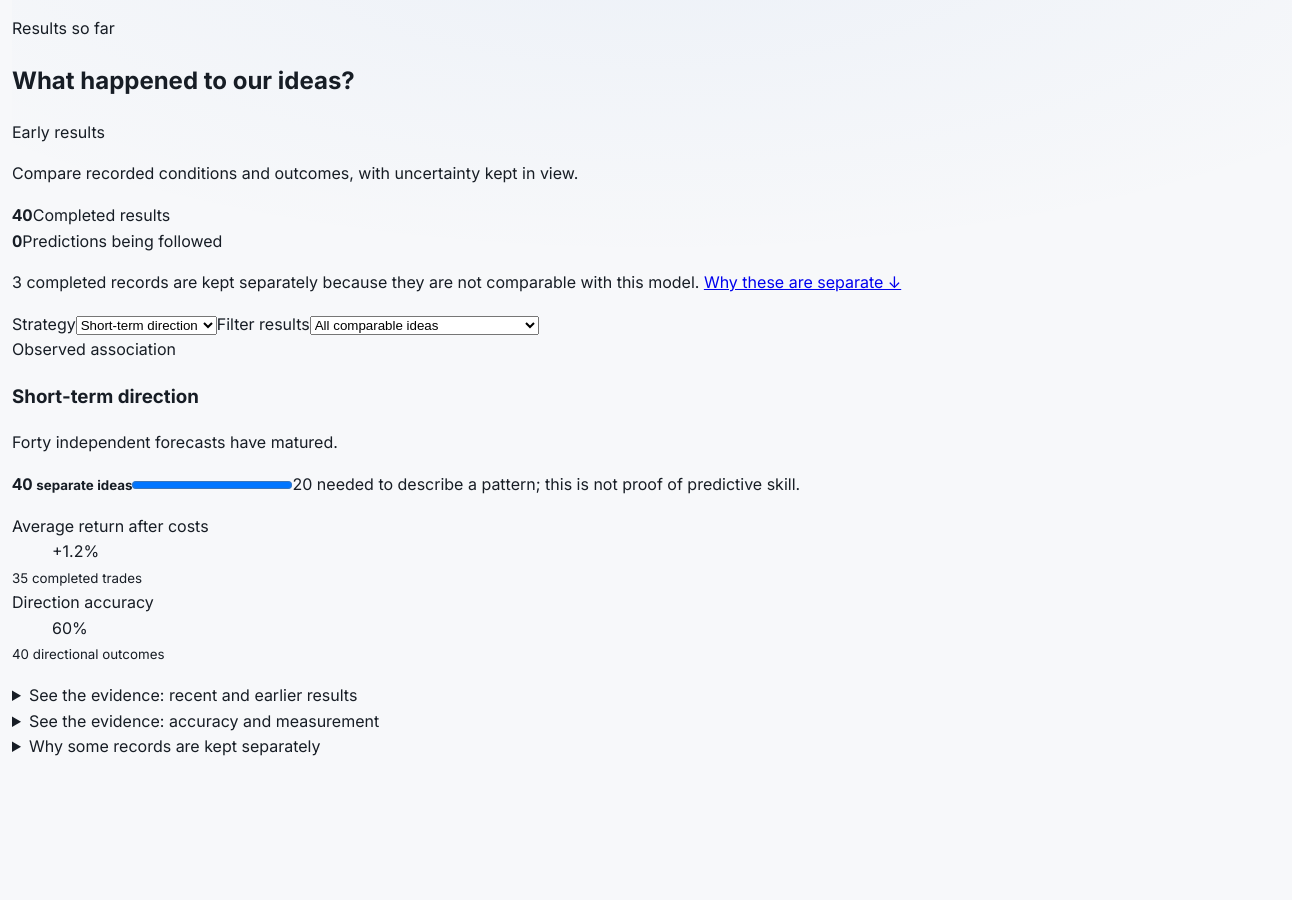
Test: Historical learning › keeps failed baseline skill, rolling retention and chronology limits inspectable
The image size is (1292, 900).
Click the heading "See the evidence: accuracy and measurement" at x=204, y=721, box [29, 711, 379, 731]
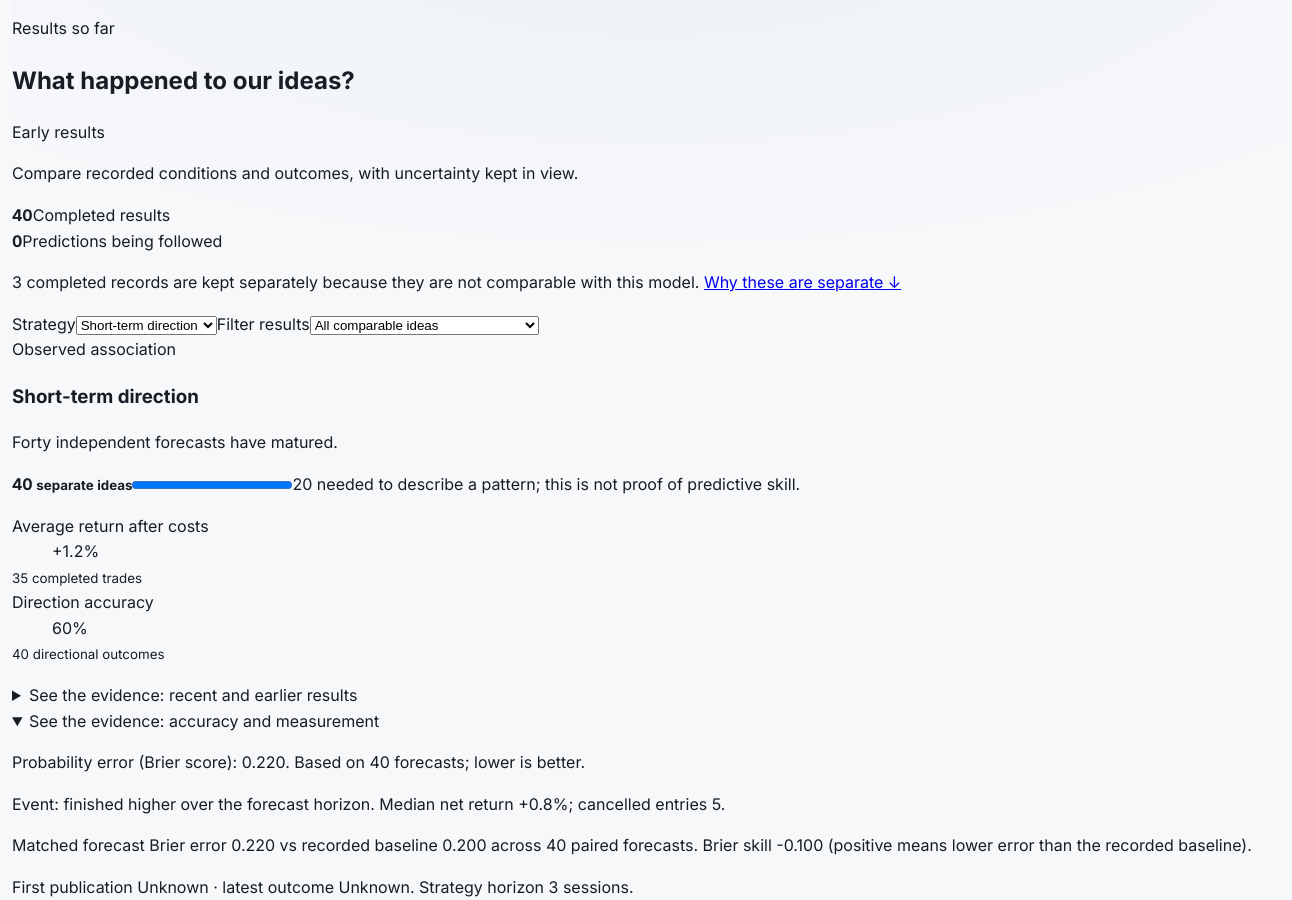
Click the heading "See the evidence: recent and earlier results" at x=193, y=695, box [29, 685, 357, 705]
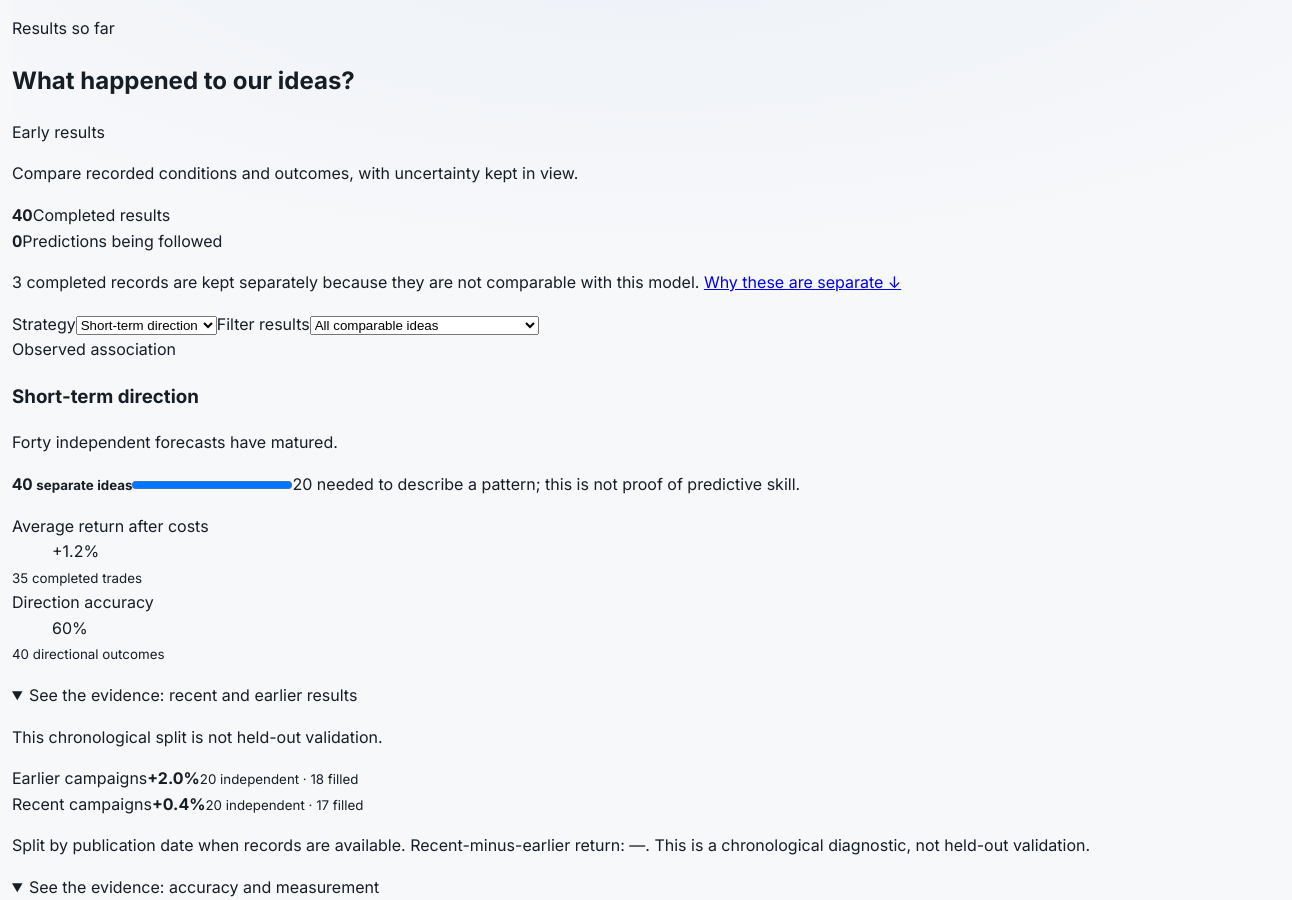
Result: the text "See the evidence: recent and earlier results" shows "+2.0%" at [147, 768, 200, 788]
Result: the text "See the evidence: recent and earlier results" shows "+0.4%" at [152, 794, 206, 814]
Result: the text "See the evidence: recent and earlier results" shows "not held-out validation" at [12, 727, 383, 747]
